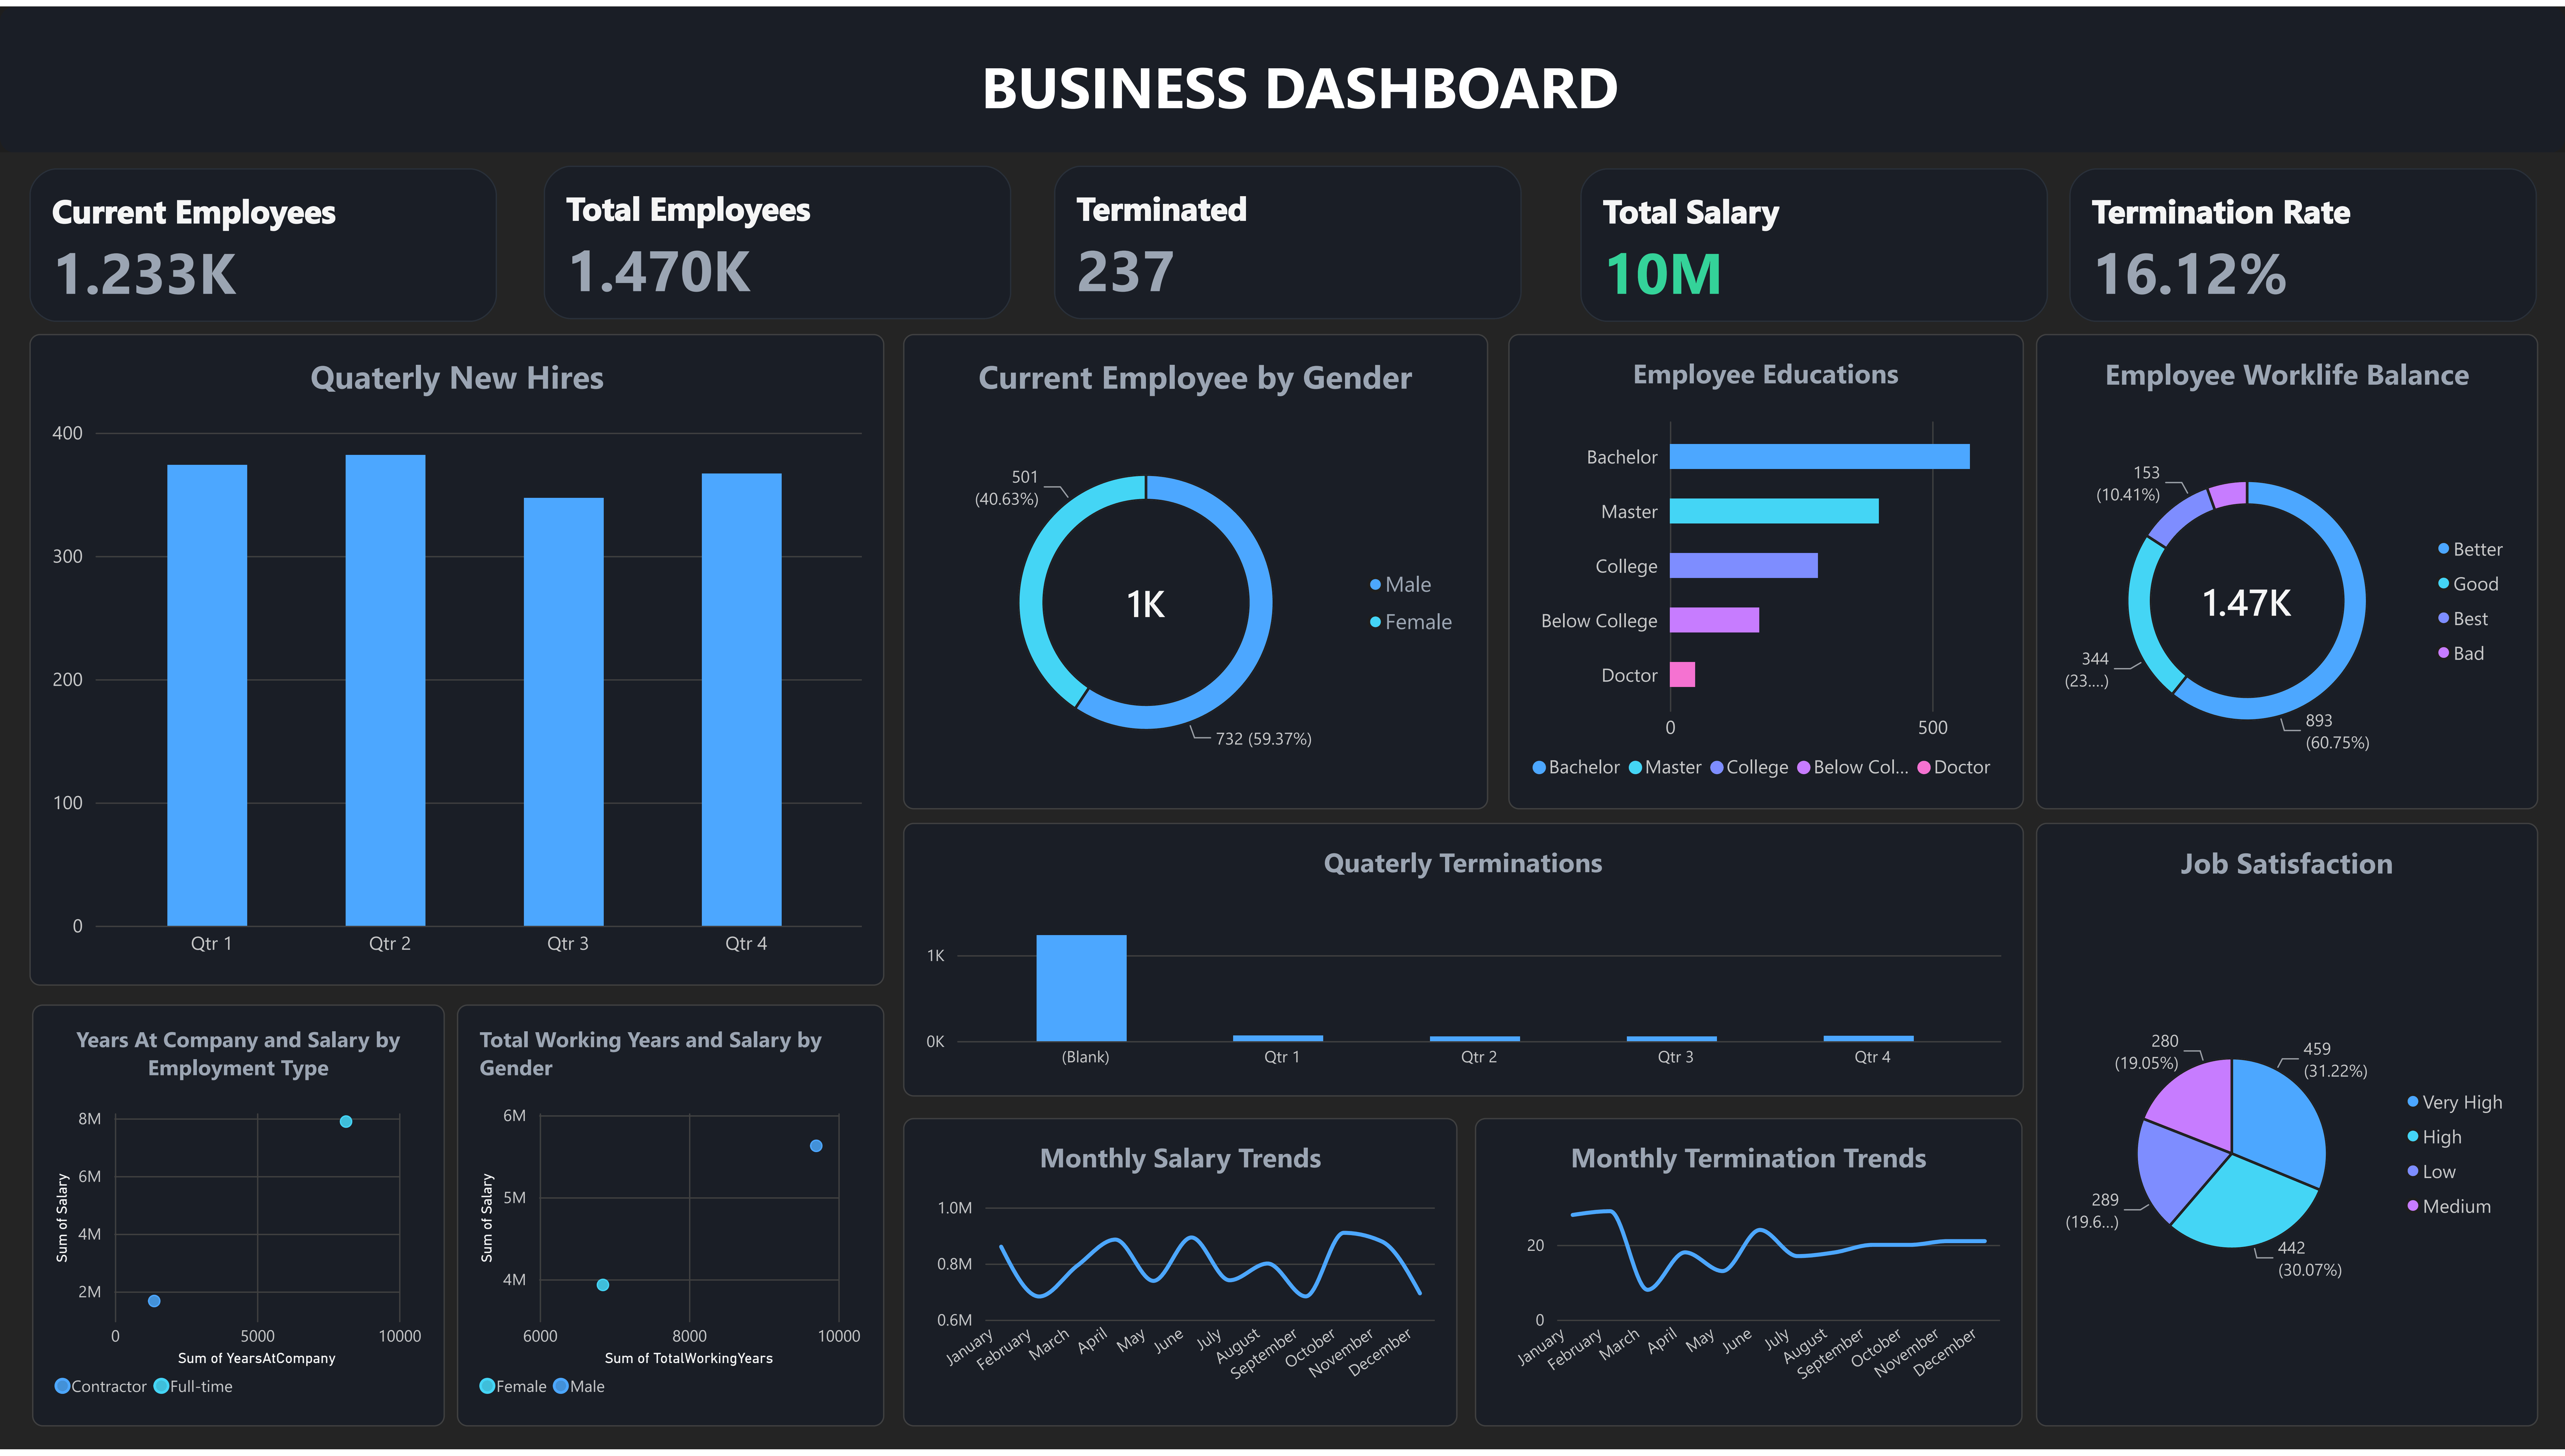

The dashboard page shown, as its layout file describes it:
{"tool":"powerbi","page":{"name":"Dashboard 02","canvas":[1920,1080],"ordinal":1},"visuals":[{"type":"cardVisual","fields":{"Data":["Analyzes For Dataset.Termination Rate"]},"box":[1549.1,120.7,350.2,115],"z":0},{"type":"cardVisual","fields":{"Data":["Analyzes For Dataset.Current Employees"]},"box":[21.6,120.7,350.2,115],"z":1000},{"type":"cardVisual","fields":{"Data":["Analyzes For Dataset.Terminated"]},"box":[789,119.3,350.2,115],"z":2000},{"type":"donutChart","title":"Current Employee by Gender","fields":{"Category":["Dataset.Gender"],"Y":["Analyzes For Dataset.Current Employees"]},"box":[675.5,245.4,437.7,356],"z":3000},{"type":"cardVisual","fields":{"Data":["Analyzes For Dataset.Total Salary"]},"box":[1182.9,120.7,350.2,115],"z":4000},{"type":"shape","box":[0,0,1920,109.2],"z":5000},{"type":"textbox","box":[242.7,29.7,1460.2,99.8],"z":6000},{"type":"cardVisual","fields":{"Data":["Analyzes For Dataset.Total Employees"]},"box":[406.7,119.3,350.2,115],"z":7000},{"type":"barChart","title":"Employee Educations","fields":{"Category":["Dataset.Education"],"Series":["Dataset.Education"],"Y":["CountNonNull(Dataset.Education)"]},"box":[1128.5,245.4,385.6,356],"z":8000},{"type":"pieChart","title":"Job Satisfaction","fields":{"Category":["Dataset.JobSatisfaction"],"Y":["CountNonNull(Dataset.JobSatisfaction)"]},"box":[1523.6,610.8,376.2,451.7],"z":9000},{"type":"donutChart","title":"Employee Worklife Balance","fields":{"Category":["Dataset.WorkLifeBalance"],"Y":["CountNonNull(Dataset.WorkLifeBalance)"]},"box":[1523.6,245.4,376.2,356],"z":10000},{"type":"columnChart","title":"Quaterly New Hires","fields":{"Category":["Dataset.DateStart.Variation.Date Hierarchy.Quarter"],"Y":["CountNonNull(Dataset.ID_employe)"]},"box":[21.6,245.4,640.4,488.1],"z":11000},{"type":"columnChart","title":"Quaterly Terminations","fields":{"Category":["Dataset.DateDeparture.Variation.Date Hierarchy.Quarter"],"Y":["CountNonNull(Dataset.ID_employe)"]},"box":[675.5,610.8,838.7,204.9],"z":12000},{"type":"lineChart","title":"Monthly Termination Trends","fields":{"Category":["Dataset.DateDeparture.Variation.Date Hierarchy.Month"],"Y":["CountNonNull(Dataset.DateDeparture)"]},"box":[1104.3,831.9,409.9,230.6],"z":13000},{"type":"lineChart","title":"Monthly Salary Trends","fields":{"Category":["Dataset.DateStart.Variation.Date Hierarchy.Month"],"Y":["Sum(Dataset.Salary)"]},"box":[675.5,831.9,415.3,230.6],"z":14000},{"type":"scatterChart","title":"Years At Company and Salary by Employment Type","fields":{"Series":["Dataset.EmploymentType"],"X":["Sum(Dataset.YearsAtCompany)"],"Y":["Sum(Dataset.Salary)"]},"box":[24.3,747,308.8,315.5],"z":14001},{"type":"scatterChart","title":"Total Working Years and Salary by Gender","fields":{"Series":["Dataset.Gender"],"X":["Sum(Dataset.TotalWorkingYears)"],"Y":["Sum(Dataset.Salary)"]},"box":[342.5,747,319.6,315.5],"z":14002}]}

Visuals, with their boxes in screenshot pixels (x1, y1, x2, y2), scaled from the page's 1920x1080 canvas onto the 2565x1456 screenshot:
cardVisual - Analyzes For Dataset.Termination Rate: crop(2070, 163, 2537, 318)
cardVisual - Analyzes For Dataset.Current Employees: crop(29, 163, 497, 318)
cardVisual - Analyzes For Dataset.Terminated: crop(1054, 161, 1522, 316)
"Current Employee by Gender" donutChart: crop(903, 331, 1487, 811)
cardVisual - Analyzes For Dataset.Total Salary: crop(1580, 163, 2048, 318)
shape: crop(0, 0, 2565, 147)
textbox: crop(324, 40, 2275, 175)
cardVisual - Analyzes For Dataset.Total Employees: crop(543, 161, 1011, 316)
"Employee Educations" barChart: crop(1508, 331, 2023, 811)
"Job Satisfaction" pieChart: crop(2035, 824, 2538, 1432)
"Employee Worklife Balance" donutChart: crop(2035, 331, 2538, 811)
"Quaterly New Hires" columnChart: crop(29, 331, 884, 989)
"Quaterly Terminations" columnChart: crop(903, 824, 2023, 1100)
"Monthly Termination Trends" lineChart: crop(1475, 1122, 2023, 1432)
"Monthly Salary Trends" lineChart: crop(903, 1122, 1457, 1432)
"Years At Company and Salary by Employment Type" scatterChart: crop(32, 1007, 445, 1432)
"Total Working Years and Salary by Gender" scatterChart: crop(458, 1007, 885, 1432)
